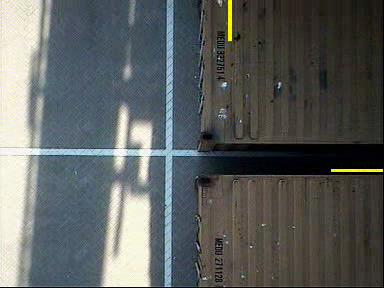groundmarker_2: (93, 40, 163, 89), (90, 213, 160, 262)
